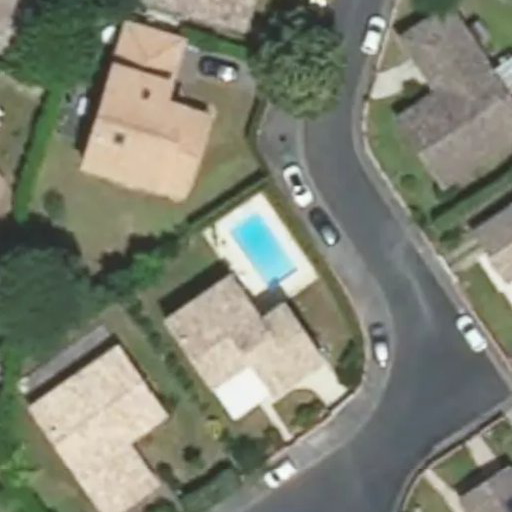pool: (219, 221, 292, 262)
